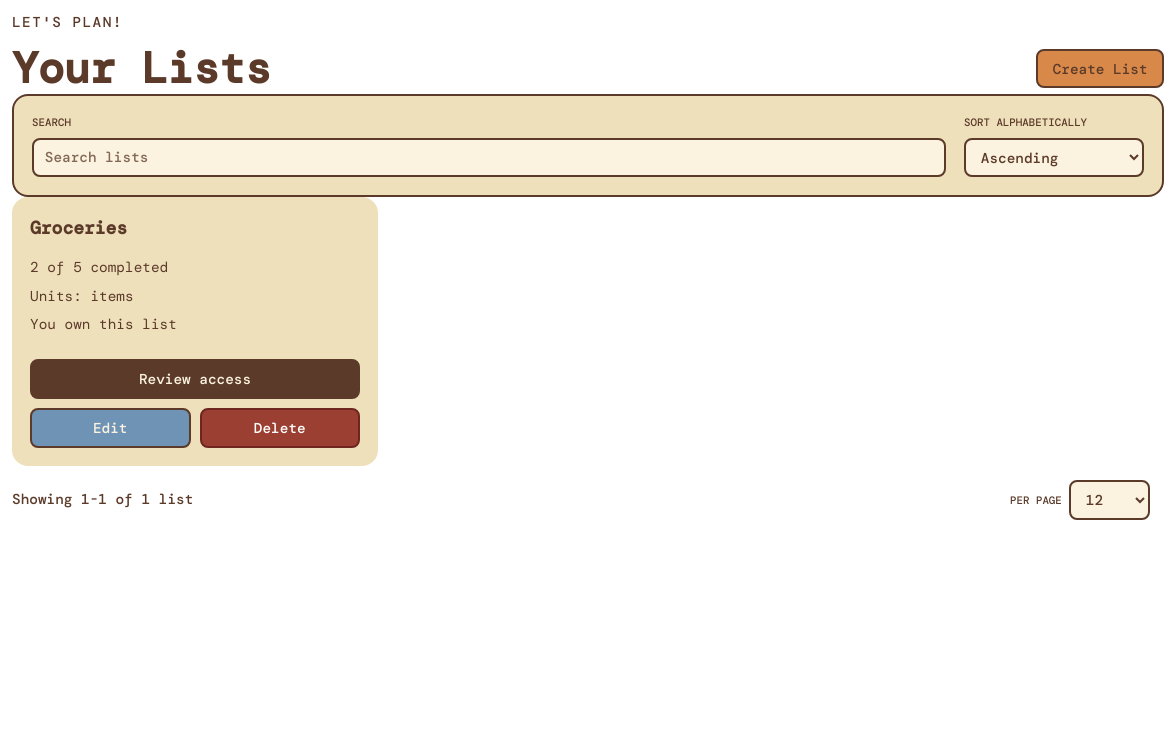
ListsPage › does not let a stale search response overwrite newer results
Expected: the heading "Groceries" is shown, [30, 216, 127, 240]
In the search field labelled "Search": [489, 158] box [32, 138, 946, 177], type "milk"
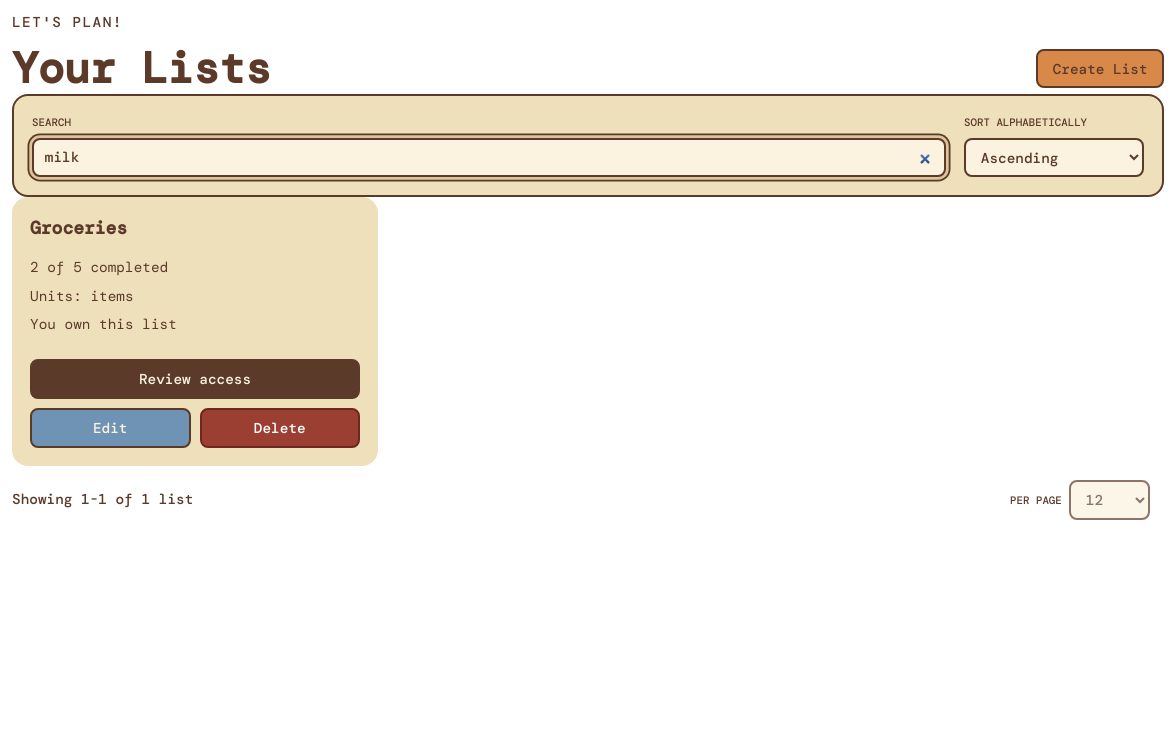
Expected: the button with aria-label "Edit Groceries" is disabled, [30, 408, 190, 448]
Replace the text in the search field labelled "Search" with "bread": [489, 158] box [32, 138, 946, 177]
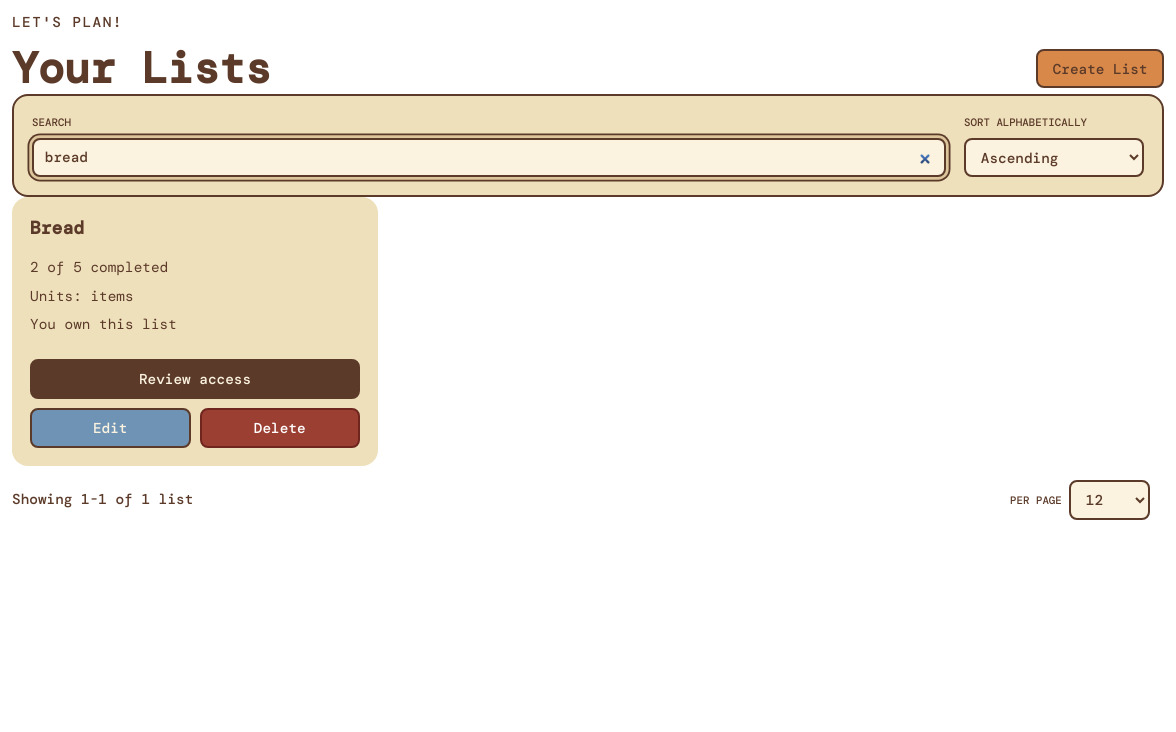
Expected: the heading "Milk" is not shown
Now the heading "Bread" is shown, box [30, 216, 84, 240]
